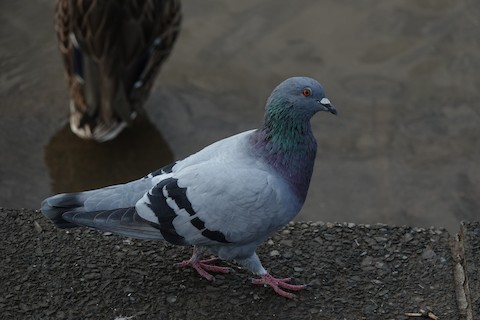pigeon: (34, 68, 340, 302)
